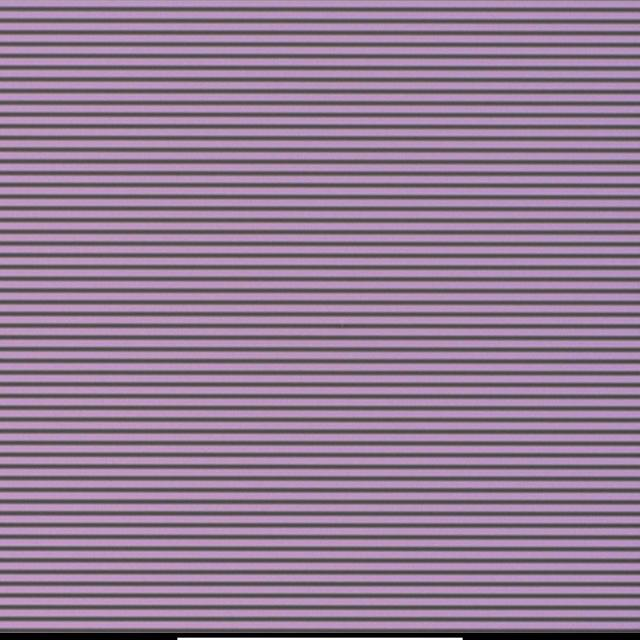03_intrusion: (336, 319, 349, 332)
